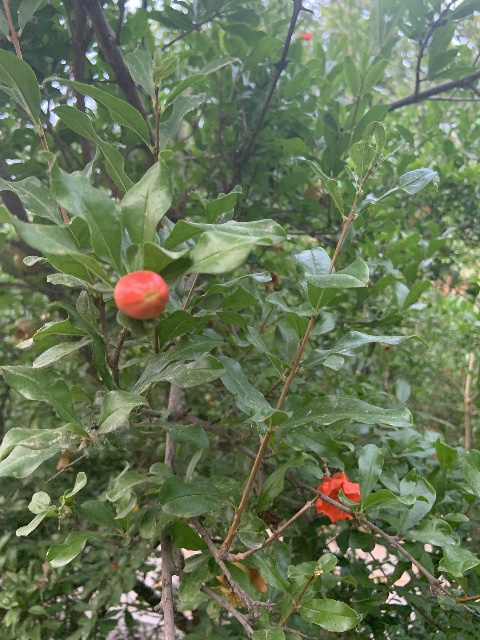bud: (114, 270, 169, 320)
flower: (314, 469, 360, 522)
